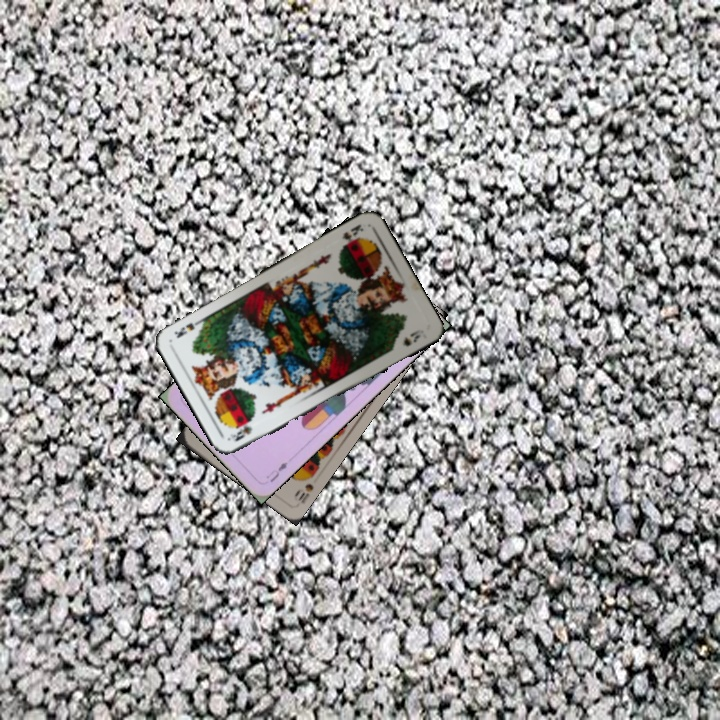EU: (262, 458, 290, 485)
S10: (290, 469, 318, 506)
SK: (338, 220, 366, 250), (225, 421, 255, 444)
